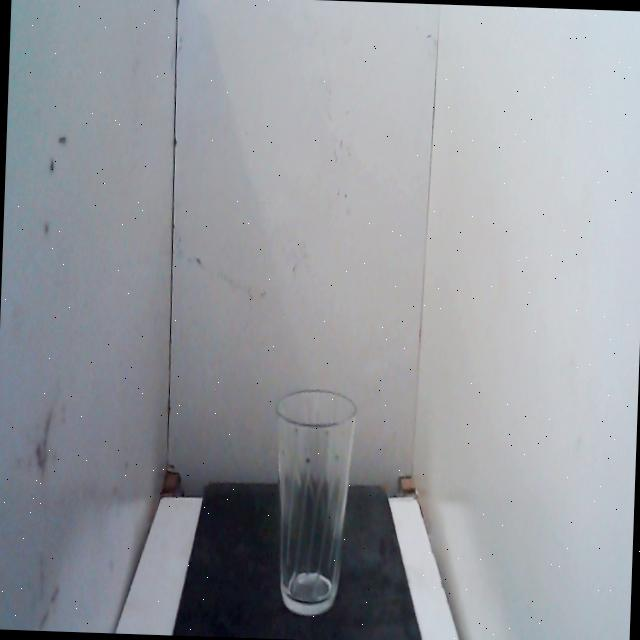vidro: (264, 380, 363, 628)
